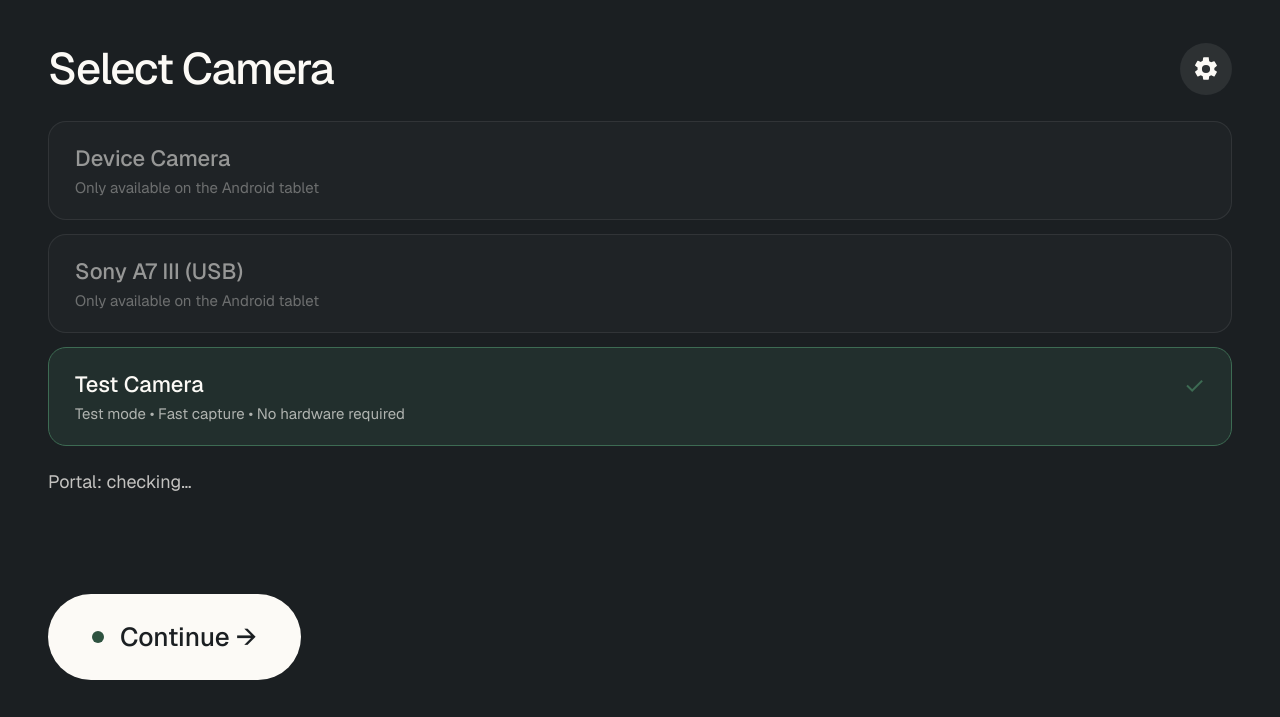
App › settings opens from the picker and returns
Click the button named "Settings": (1206, 68) left=1180, top=42, right=1232, bottom=94
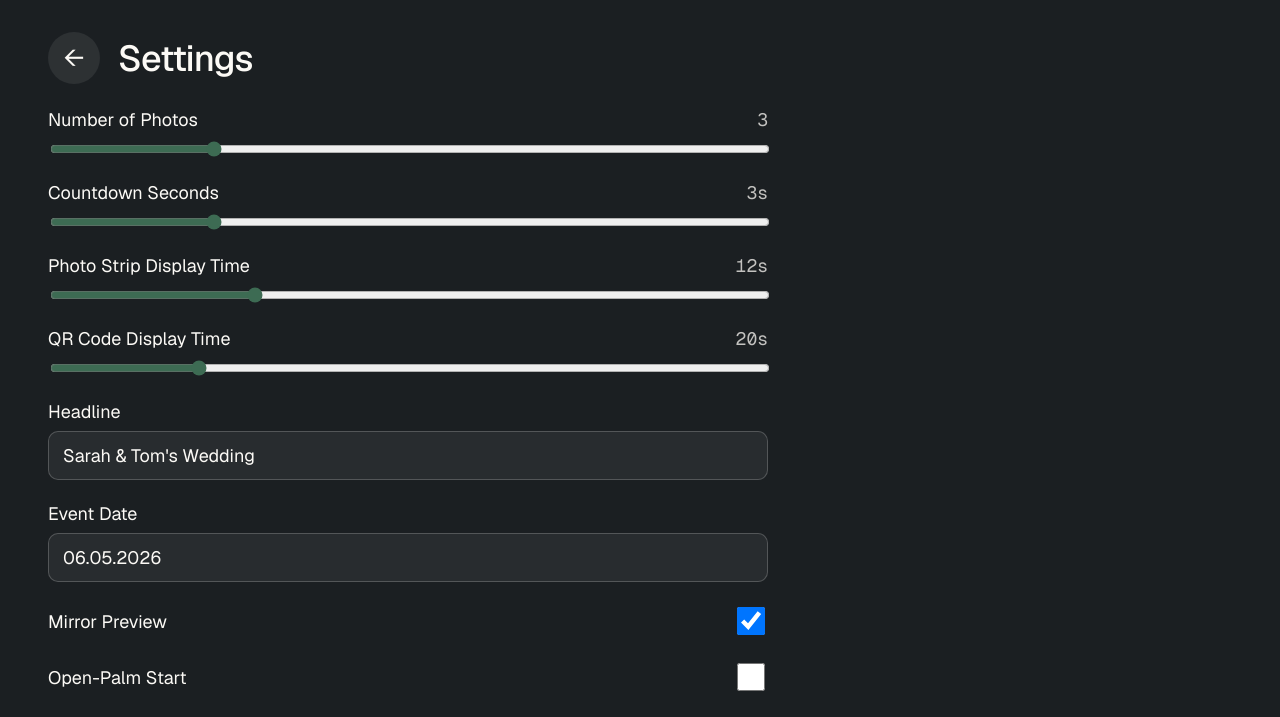
Now the heading "Settings" is shown, box left=118, top=34, right=252, bottom=82
Click the button named "Back": (74, 58) left=48, top=32, right=100, bottom=84
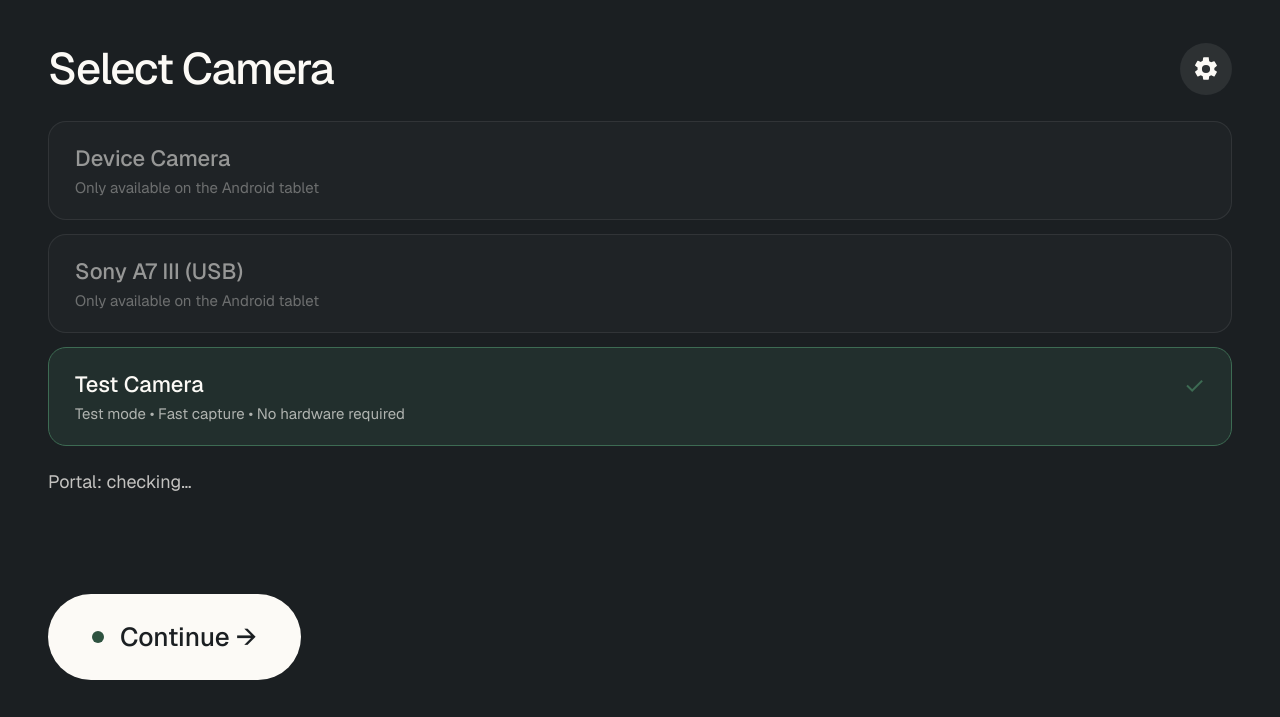
Now the heading "Select Camera" is shown, box left=48, top=40, right=333, bottom=97
